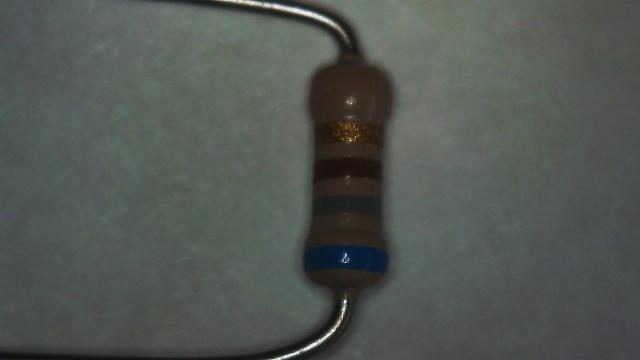blue: (304, 246, 387, 272)
brown: (314, 158, 382, 182)
gold: (315, 122, 382, 144)
grey: (313, 194, 381, 216)
resistor: (281, 42, 411, 307)
